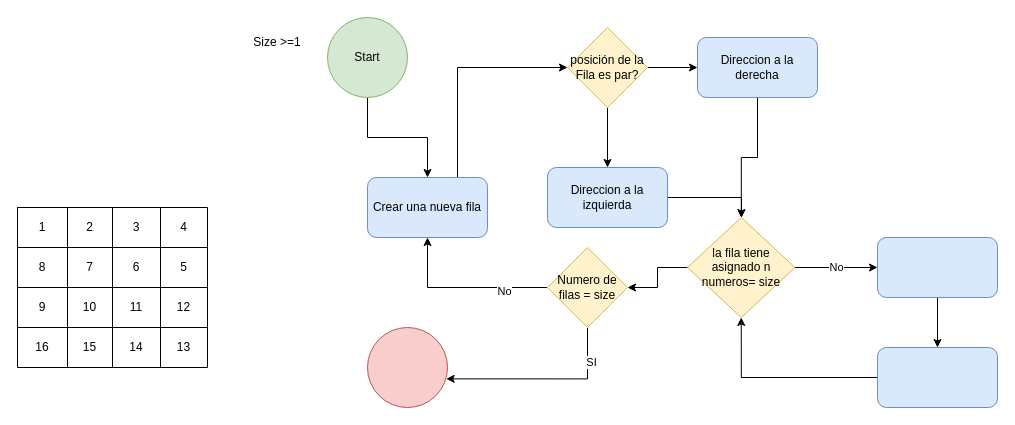
Image size: 1015x425. Some labels were removed from this diagram. The shapes that lost their labels are listed below. From the top down, each one's centre as x and y in pixels, then its label:
At (x=937, y=267): "Asignar contador".
At (x=407, y=367): "FIN".
At (x=937, y=377): "Aumentar el contador".
